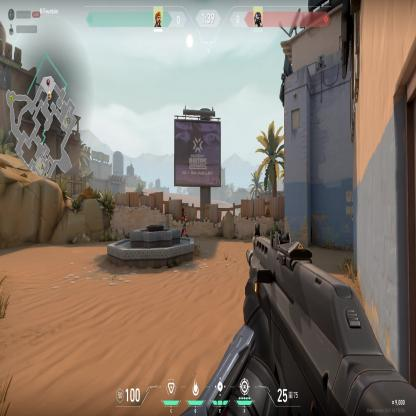enemy: (180, 210, 189, 238)
